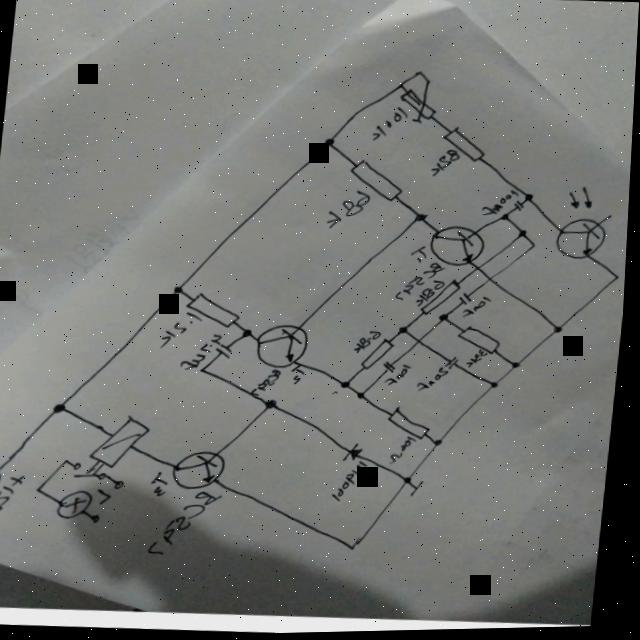capacitor: (219, 344, 239, 361), (447, 358, 465, 373), (461, 295, 477, 308), (515, 202, 528, 215), (386, 363, 401, 374)
crossover: (486, 276, 502, 287), (415, 338, 431, 349), (473, 265, 488, 276)
diode: (347, 443, 370, 464)
ground: (415, 481, 431, 500)
junction: (57, 401, 74, 415), (555, 327, 568, 338), (437, 439, 450, 450), (406, 476, 419, 487), (524, 195, 537, 206), (326, 138, 338, 149), (419, 215, 431, 226), (614, 274, 626, 285), (442, 314, 454, 325), (493, 382, 505, 393), (64, 456, 75, 468), (519, 231, 532, 241), (530, 243, 543, 253), (514, 363, 527, 373), (400, 327, 413, 337), (359, 393, 372, 403), (343, 381, 356, 391), (201, 367, 214, 377), (40, 484, 51, 495), (503, 213, 515, 223), (354, 545, 366, 555), (269, 401, 281, 411), (245, 329, 257, 339), (176, 286, 188, 296), (424, 79, 434, 88), (416, 70, 426, 78), (396, 83, 406, 91)
resistor: (349, 159, 409, 205), (186, 292, 248, 330), (442, 126, 490, 165), (424, 278, 466, 319), (399, 88, 442, 127), (391, 408, 438, 443), (460, 327, 507, 360), (365, 338, 400, 373)
terminal: (0, 467, 10, 489), (116, 479, 132, 492), (95, 513, 108, 524)
text: (154, 488, 229, 560), (397, 262, 450, 306), (328, 189, 375, 233), (162, 311, 208, 353), (183, 333, 228, 374), (336, 461, 374, 506), (0, 471, 32, 520), (372, 107, 411, 145), (483, 191, 522, 221), (418, 280, 450, 311), (254, 369, 286, 400), (433, 150, 464, 181), (420, 367, 454, 395), (394, 437, 422, 468), (465, 296, 497, 322), (358, 331, 387, 356), (387, 365, 417, 388), (155, 471, 176, 498), (469, 350, 493, 372), (412, 247, 433, 266), (293, 365, 311, 387), (102, 488, 118, 505)
transistor: (557, 187, 620, 265), (257, 323, 315, 373), (429, 226, 491, 271), (175, 449, 233, 493)
